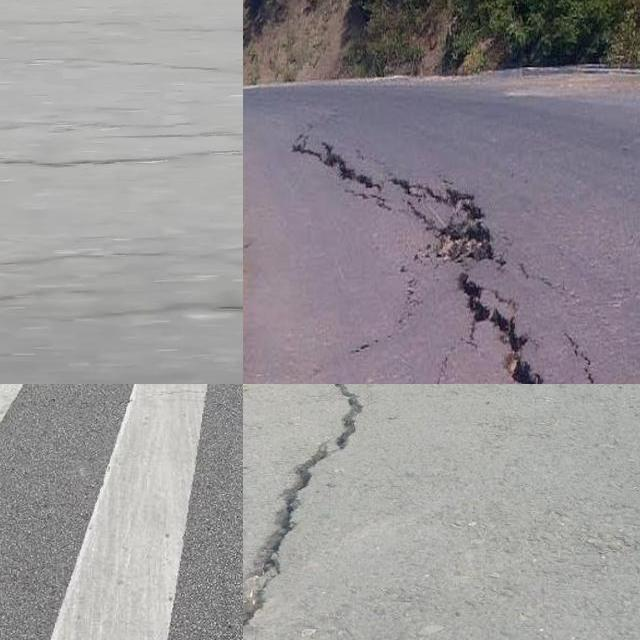Melintang: (0, 135, 243, 182)
Memanjang: (273, 127, 560, 384), (243, 384, 372, 640)
